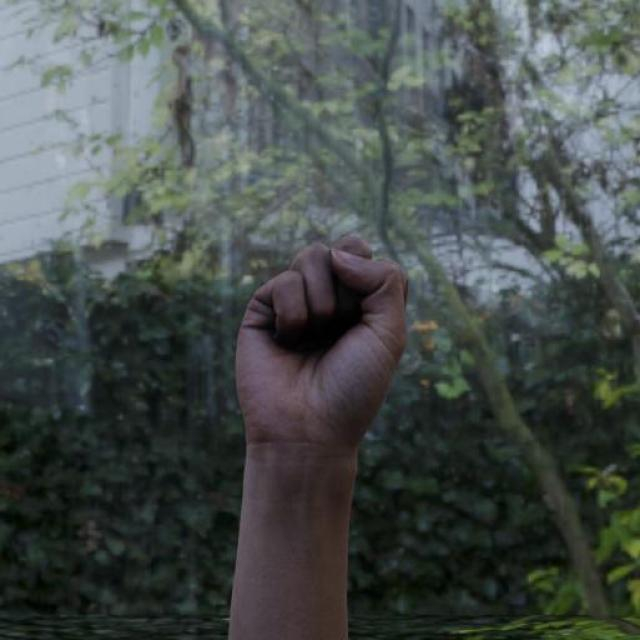S: (229, 232, 413, 450)
